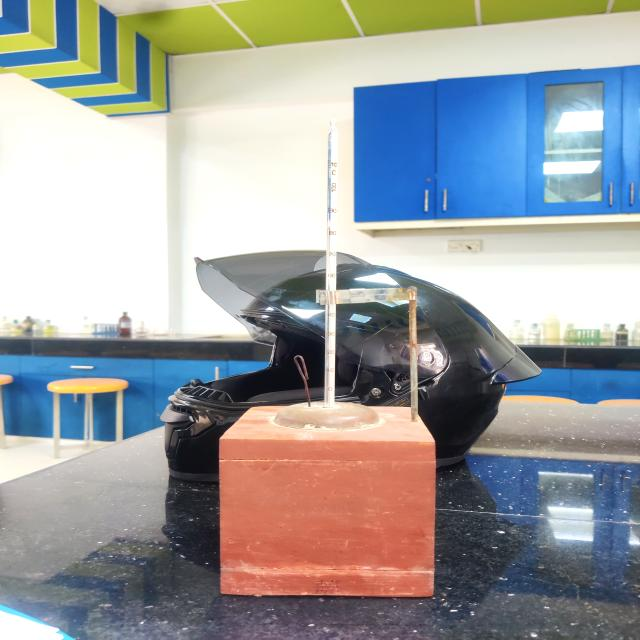Calorimeter: (186, 117, 474, 627)
